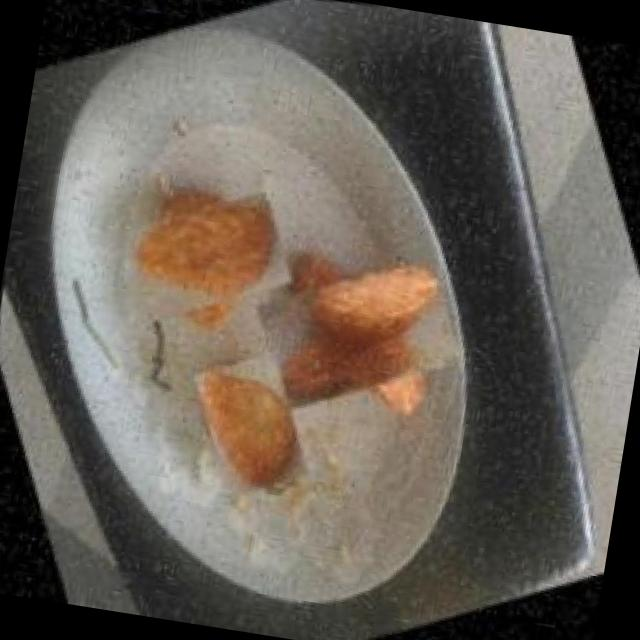triangle_hash_brown: (244, 217, 473, 446), (117, 160, 306, 349), (174, 336, 332, 514)
